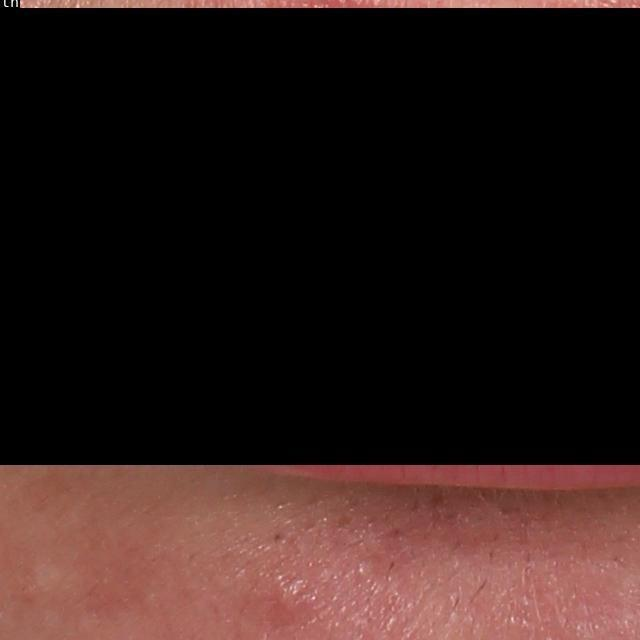hypertrophic_scar: (23, 556, 73, 597)
papule: (268, 573, 324, 637)
